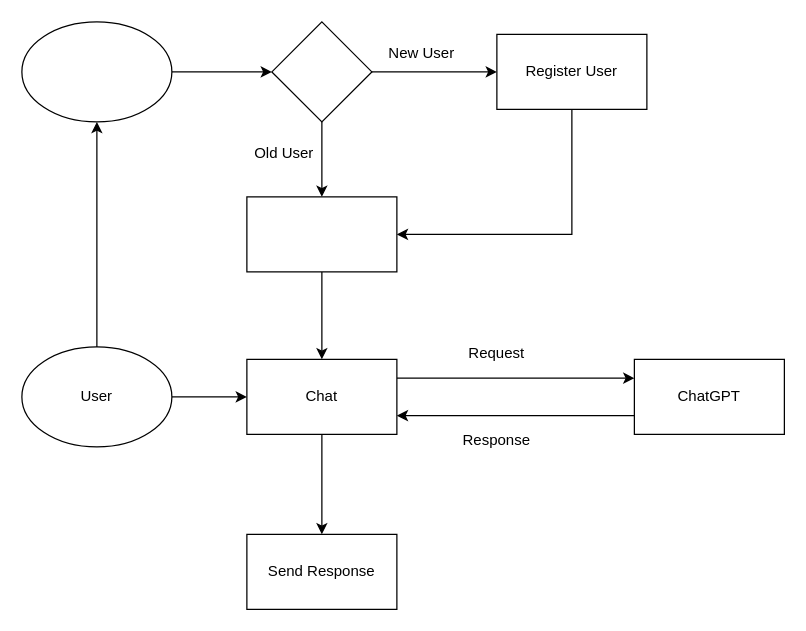
The diagram is 806 pixels wide and 631 high, and some of its shapes have lost their labels. Each missing label, with the centre of its shape:
"/Start" goes at point (96, 71).
"Check User" goes at point (321, 71).
"Say Hello" goes at point (321, 234).
